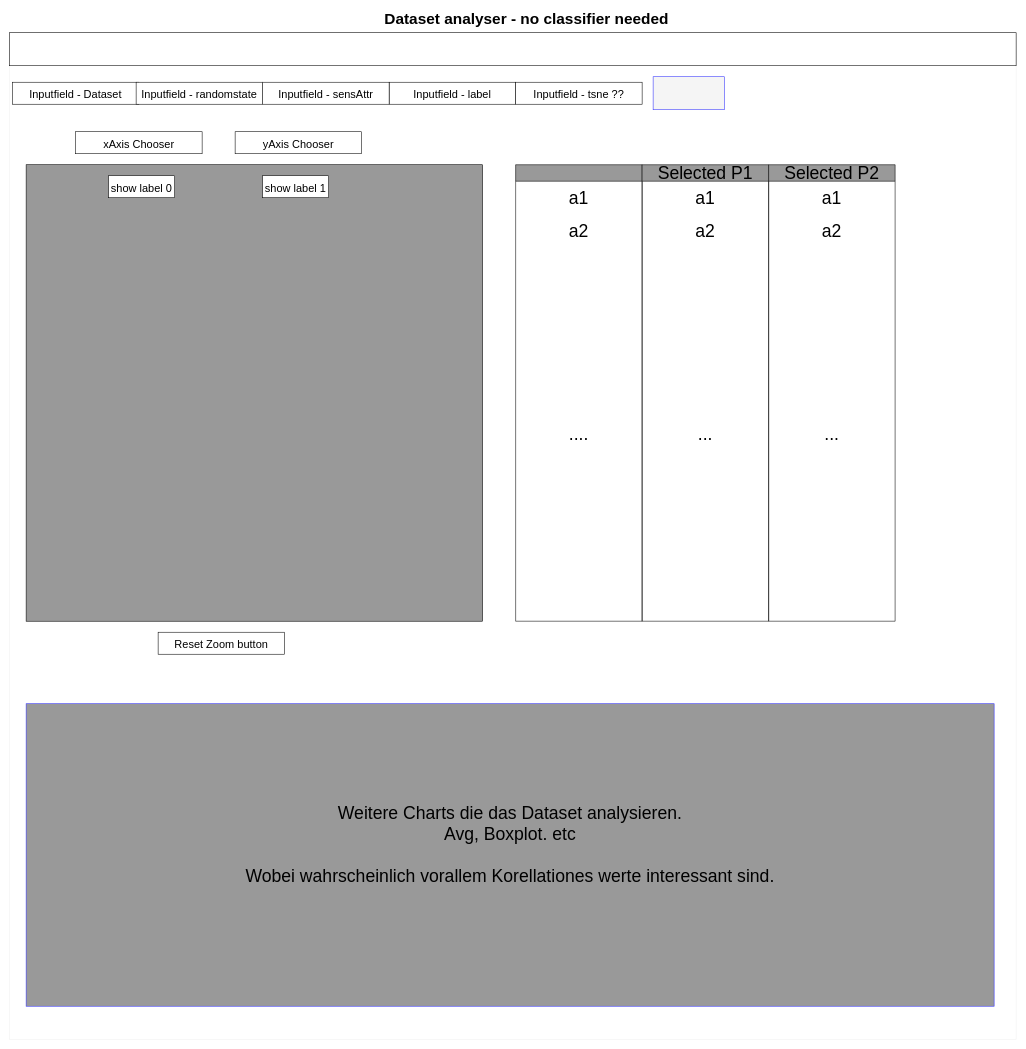
Some shapes in this 1026 by 1049 pixel diagram are drawn without their labels. The box of each missing label's shape, as (x1, y1, x2, y2) in pixels:
attribute: (515, 164, 642, 621)
Header, navbar, Icon, ....: (9, 32, 1016, 66)
Scatter - Chart: (26, 164, 483, 621)
submit: (653, 76, 725, 110)
